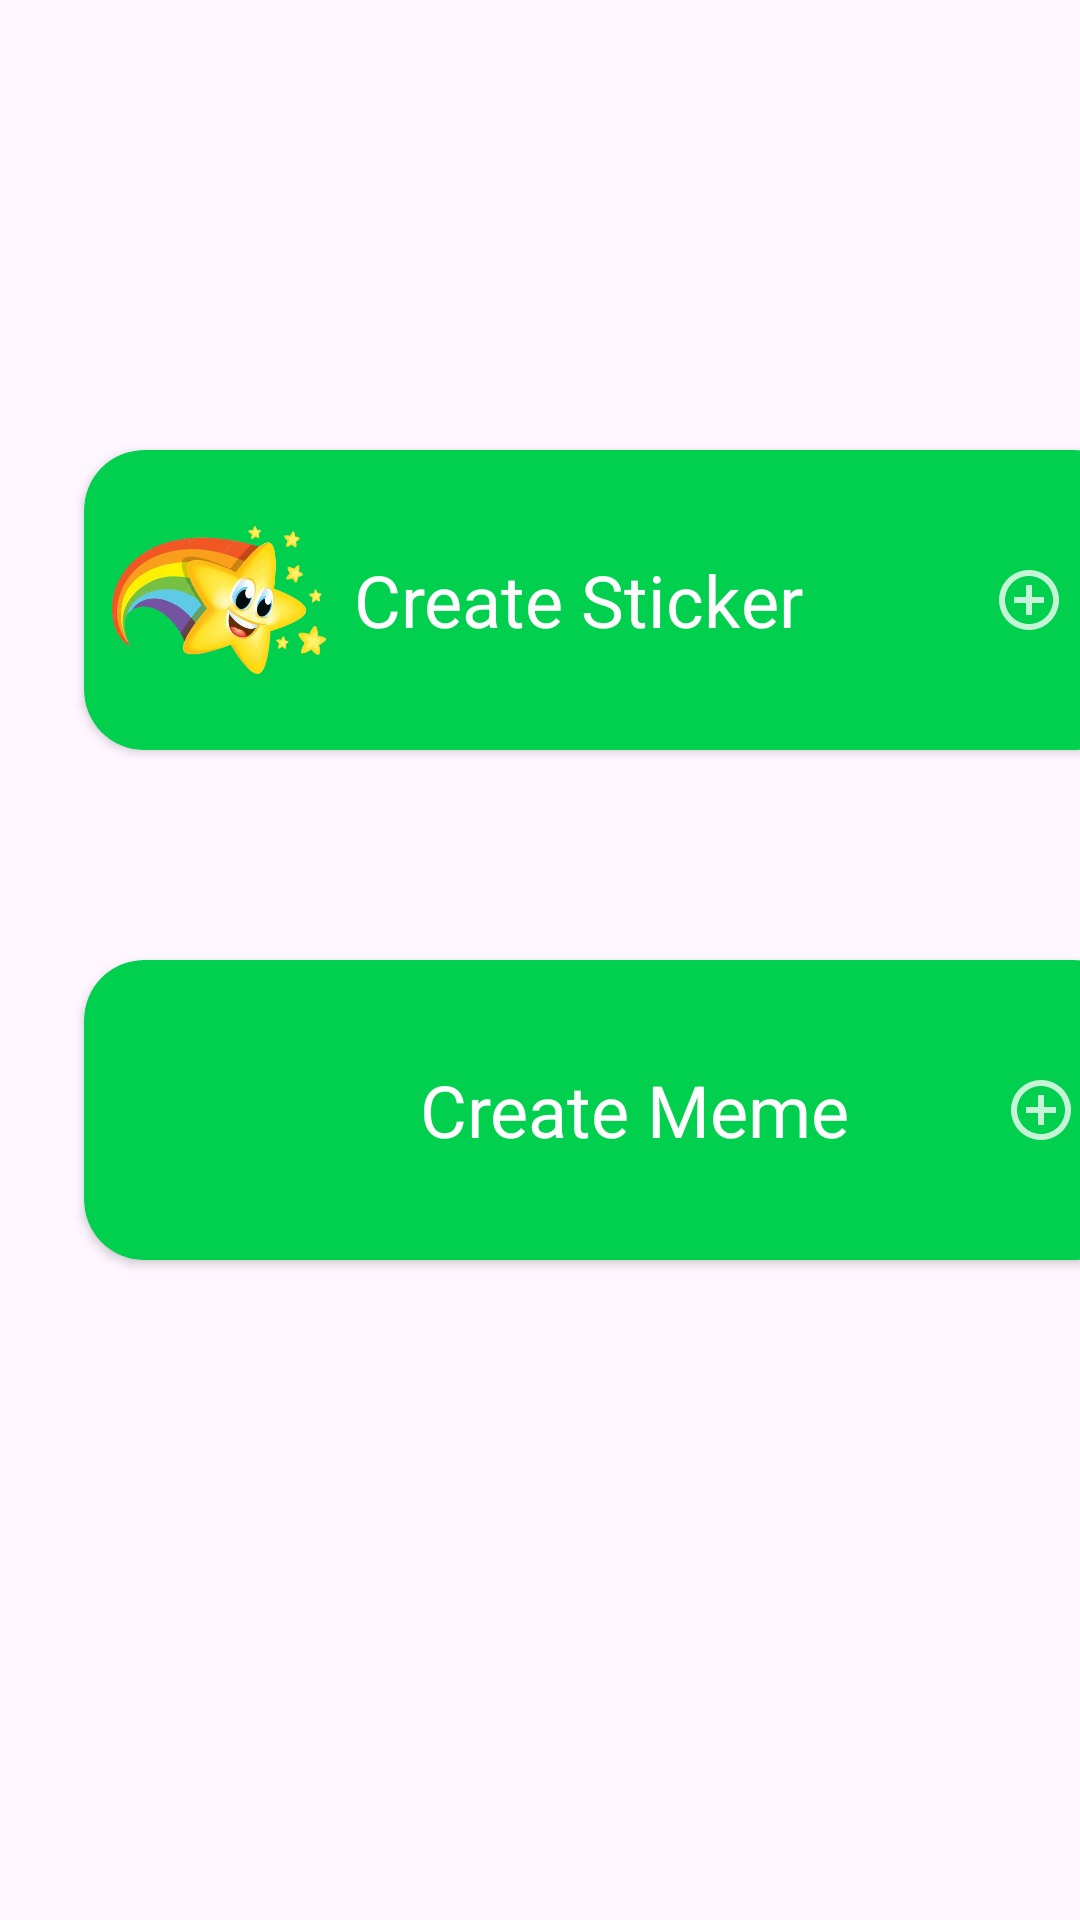

Icons on this 1080 x 1920 Android screen, each with the point to tap as (x=x, y=y):
rainbowstar: (x=219, y=600)
